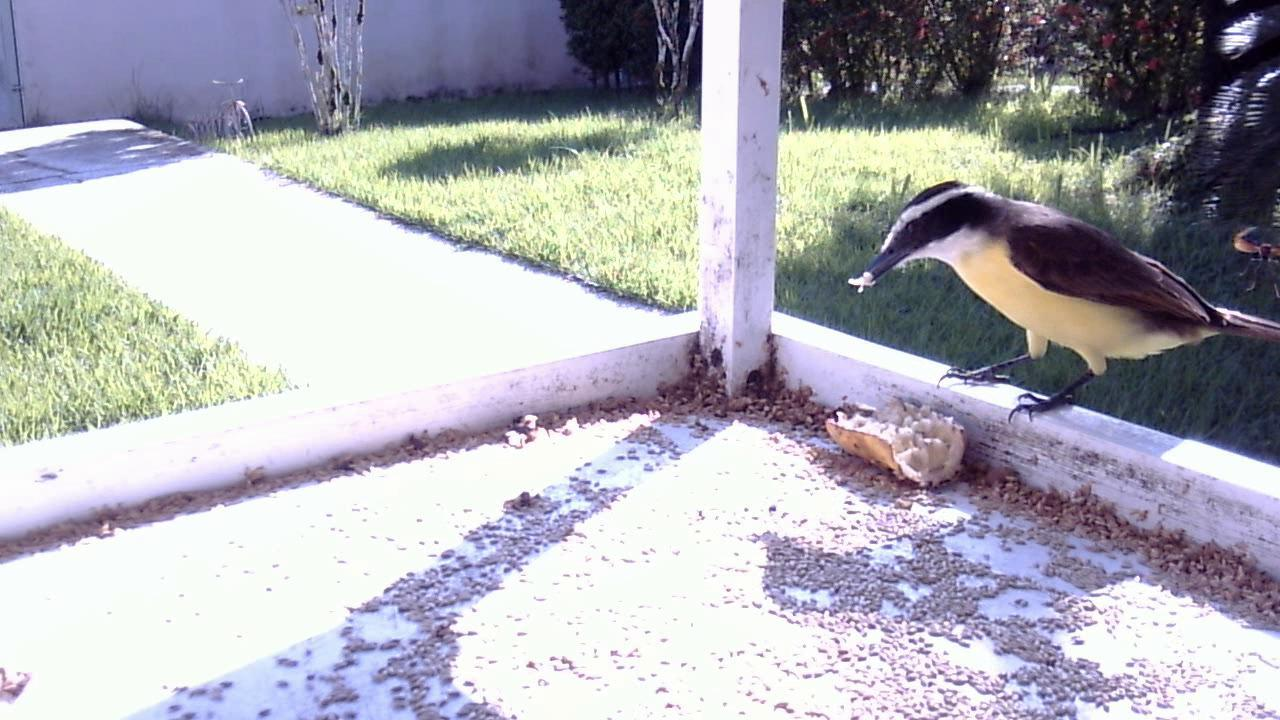bem_te_vi: (841, 162, 1275, 449)
